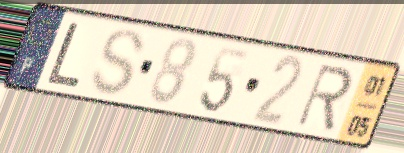2: (248, 53, 305, 129)
5: (197, 43, 254, 115)
8: (148, 36, 201, 110)
L: (43, 20, 84, 90)
R: (293, 62, 356, 134)
S: (88, 26, 147, 98)
